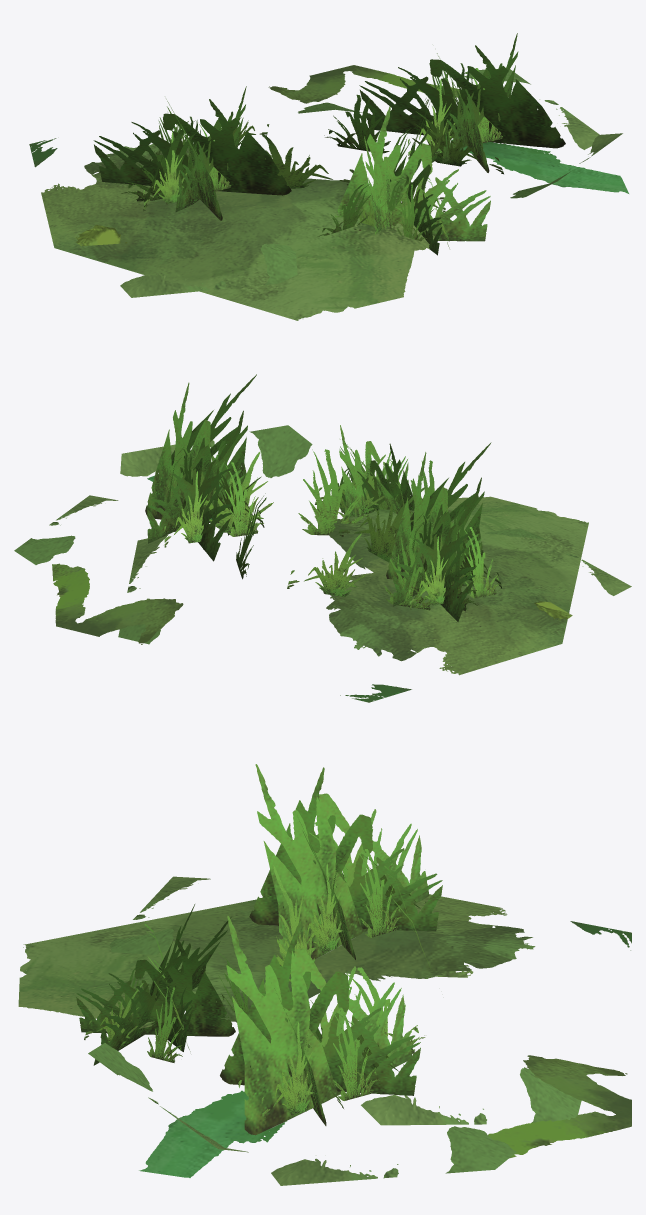
File: Groupe_Herbe_03.fbx
3 renders of one model, top to bottom at view 1: azimuth 30°, elevation 25°; view 2: azimuth 150°, elevation 25°; view 3: azimuth 270°, elevation 25°, orthographic. The views are drawn at different scales.
Parts seen in each view (by area): view 1: Groupe_Herbe_03; view 2: Groupe_Herbe_03; view 3: Groupe_Herbe_03.
Part boxes in pixels (left/top/right/bottom): Groupe_Herbe_03: left=29, top=33, right=628, bottom=320; Groupe_Herbe_03: left=14, top=374, right=631, bottom=702; Groupe_Herbe_03: left=18, top=764, right=631, bottom=1185.
Size of the model in its own units: 3.34 by 1.14 by 2.72.
